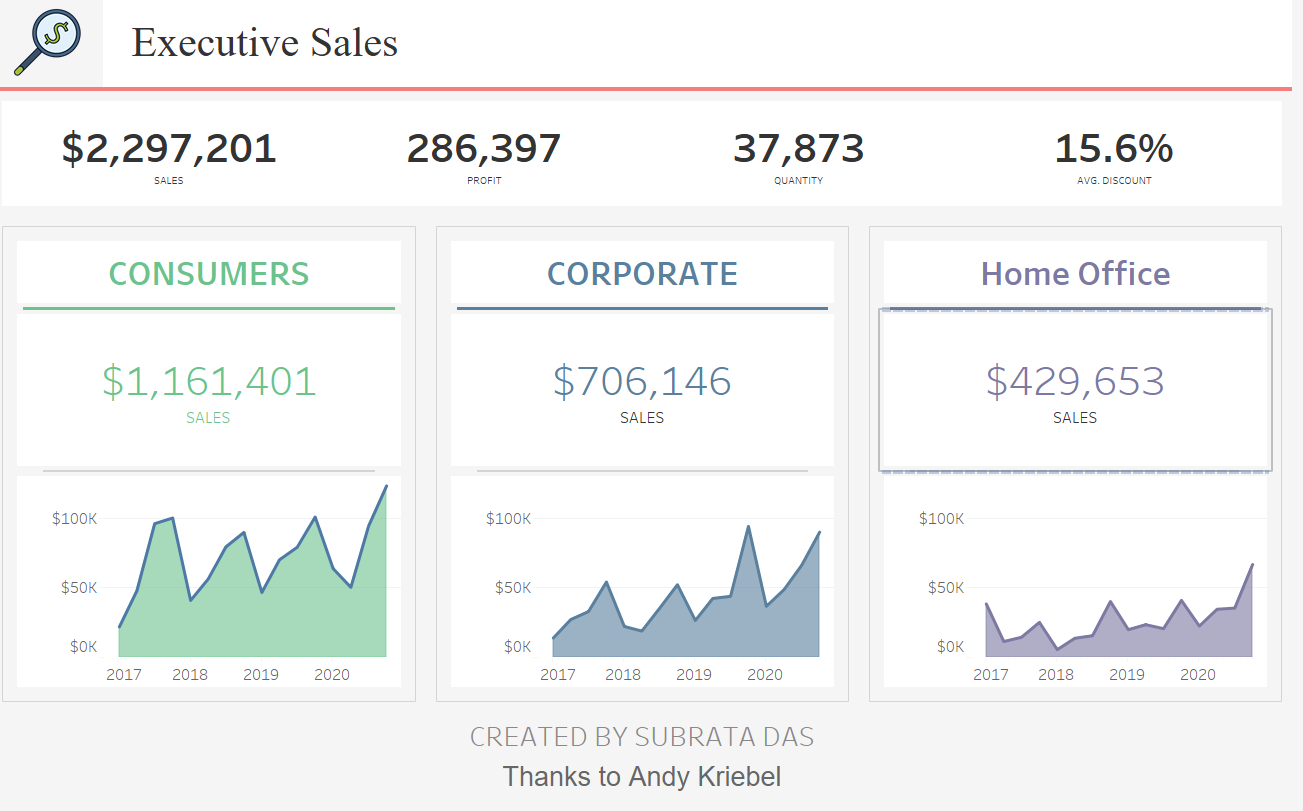

The dashboard page shown, as its layout file describes it:
{"tool":"tableau","page":{"name":"Dashboard 1","canvas":[1300,800],"ordinal":0},"visuals":[{"type":"image","param":"D:/Excel_projects/graphicsurf-com-452186-finance-free-vector-icon-set/PNG/financ","box":[0,0,111,90]},{"type":"text","box":[111,0,1189,90]},{"type":"blank","box":[0,90,1300,4]},{"type":"worksheet","title":"KPIS","mark":"Automatic","box":[0,94,1300,125]},{"type":"text","box":[21,240,392,70]},{"type":"text","box":[455,240,391,70]},{"type":"text","box":[888,240,391,70]},{"type":"blank","box":[21,310,392,3]},{"type":"blank","box":[455,310,391,3]},{"type":"blank","box":[888,310,391,3]},{"type":"worksheet","title":"Consumer Sales","mark":"Automatic","box":[21,313,392,160]},{"type":"worksheet","title":"Corporate Sales ","mark":"Automatic","box":[455,313,391,160]},{"type":"worksheet","title":"Home Office Sales","mark":"Automatic","box":[888,313,391,160]},{"type":"blank","box":[21,473,392,2]},{"type":"blank","box":[455,473,391,2]},{"type":"blank","box":[888,473,391,2]},{"type":"worksheet","title":"Consumer Sales by Qurter","mark":"Automatic","rows":["Sales","Sales"],"cols":["Order Date"],"box":[21,475,392,219]},{"type":"worksheet","title":"Corporate Sales by Qurter","mark":"Automatic","rows":["Sales","Sales"],"cols":["Order Date"],"box":[455,475,391,219]},{"type":"worksheet","title":"Home Office Sales by Qurter","mark":"Automatic","rows":["Sales","Sales"],"cols":["Order Date"],"box":[888,475,391,219]},{"type":"text","box":[0,715,1300,46]},{"type":"text","box":[0,761,1300,39]}]}

Visuals, with their boxes in screenshot pixels (x1, y1, x2, y2), scaled from the page's 1300x800 canvas onto the 1303x811 screenshot:
image: <box>0,0,111,91</box>
text: <box>111,0,1302,91</box>
blank: <box>0,91,1302,95</box>
"KPIS" worksheet: <box>0,95,1302,222</box>
text: <box>21,243,414,314</box>
text: <box>456,243,848,314</box>
text: <box>890,243,1282,314</box>
blank: <box>21,314,414,317</box>
blank: <box>456,314,848,317</box>
blank: <box>890,314,1282,317</box>
"Consumer Sales" worksheet: <box>21,317,414,480</box>
"Corporate Sales " worksheet: <box>456,317,848,480</box>
"Home Office Sales" worksheet: <box>890,317,1282,480</box>
blank: <box>21,480,414,482</box>
blank: <box>456,480,848,482</box>
blank: <box>890,480,1282,482</box>
"Consumer Sales by Qurter" worksheet: <box>21,482,414,704</box>
"Corporate Sales by Qurter" worksheet: <box>456,482,848,704</box>
"Home Office Sales by Qurter" worksheet: <box>890,482,1282,704</box>
text: <box>0,725,1302,771</box>
text: <box>0,771,1302,810</box>
